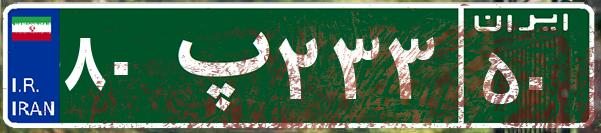0: (110, 28, 158, 105), (525, 38, 570, 115)
2: (273, 28, 330, 110)
3: (385, 28, 445, 110), (330, 28, 385, 110)
5: (475, 38, 525, 113)
8: (57, 26, 110, 107)
پ: (158, 15, 273, 115)
